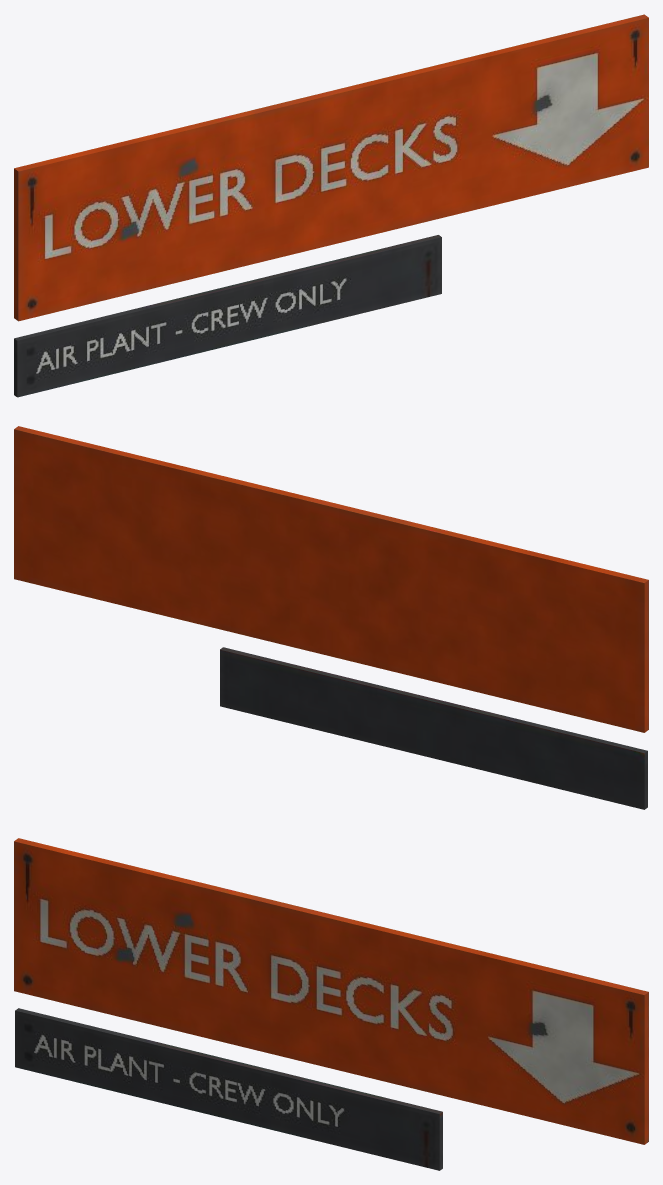
File: sign_lower_decks.glb
The picture shows the model from 3 angles, top to bottom: view 1: azimuth 30°, elevation 25°; view 2: azimuth 150°, elevation 25°; view 3: azimuth 330°, elevation 25°; orthographic projection.
Visible parts, largest first — view 1: sign_lower_decks; view 2: sign_lower_decks; view 3: sign_lower_decks.
Boxes of the visible parts, x1,y1,x2,y2 form: sign_lower_decks: (14,14,648,397); sign_lower_decks: (14,426,648,809); sign_lower_decks: (14,838,648,1170).
Bounding box in the file's own units: 1.63 × 0.56 × 0.02.
1 material, 1 textured.
